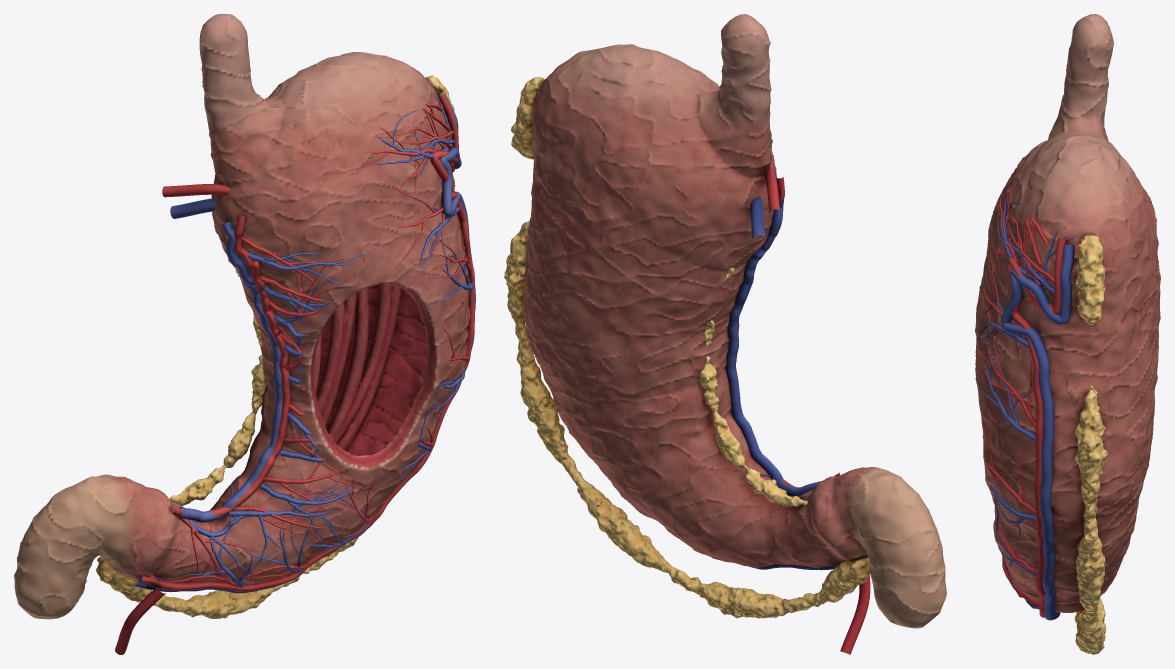
The model's file is stomach.81da3e3b.glb.
3 renders of one model, left to right at view 1: azimuth 30°, elevation 25°; view 2: azimuth 150°, elevation 25°; view 3: azimuth 270°, elevation 25°, orthographic. The views are drawn at different scales.
Visible parts, largest first — view 1: Stomach wall, Gastric arteries, Gastric veins, Omental fat; view 2: Stomach wall, Omental fat, Gastric veins, Gastric arteries; view 3: Stomach wall, Gastric veins, Omental fat, Gastric arteries.
Part boxes in pixels (x1=…): Stomach wall: x1=14, y1=14, x2=470, y2=619; Gastric arteries: x1=115, y1=93, x2=474, y2=654; Gastric veins: x1=133, y1=92, x2=475, y2=593; Omental fat: x1=96, y1=75, x2=454, y2=618; Stomach wall: x1=523, y1=14, x2=946, y2=628; Omental fat: x1=504, y1=77, x2=870, y2=618; Gastric veins: x1=725, y1=196, x2=836, y2=570; Gastric arteries: x1=724, y1=166, x2=870, y2=654; Stomach wall: x1=975, y1=14, x2=1160, y2=612; Gastric veins: x1=977, y1=193, x2=1076, y2=620; Omental fat: x1=1074, y1=235, x2=1107, y2=654; Gastric arteries: x1=976, y1=189, x2=1066, y2=617.
Bounding box in the file's own units: 2.78 × 3.7 × 0.9868.
